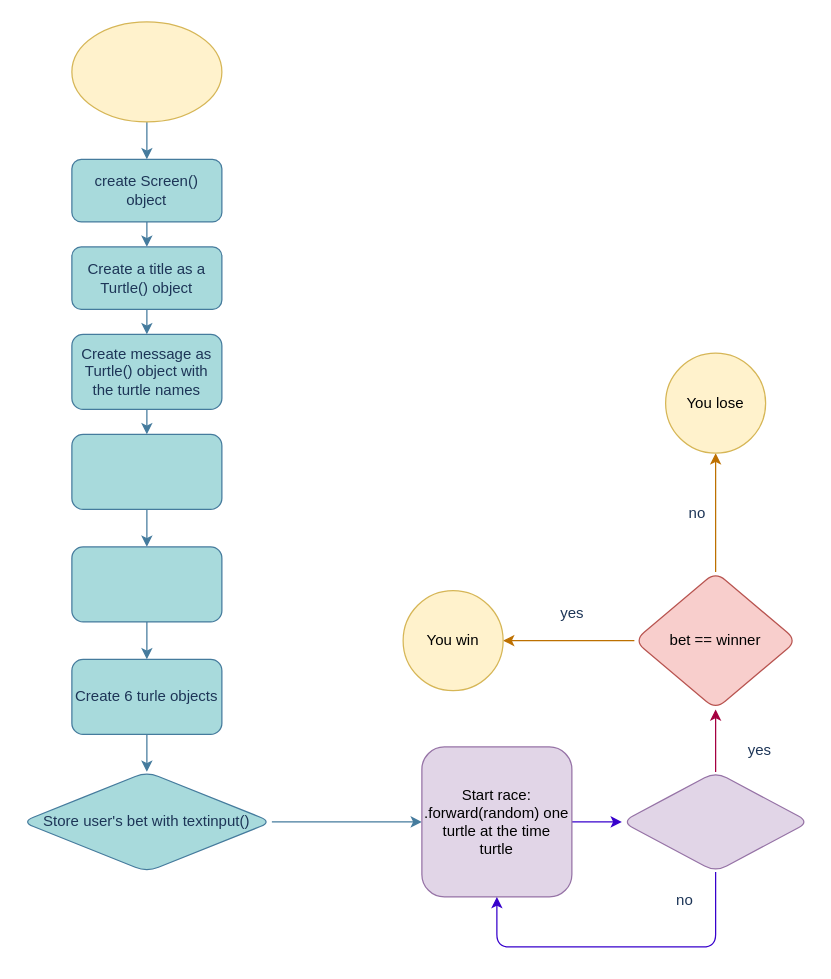
This 831x979 diagram has some shape labels left out. Each missing label, with the centre of its shape:
"Create colours, and positions variables. Create turtles_in_race list" goes at pixel 146 584.
"Draw finish line set f_line_pos" goes at pixel 146 471.
"If turtle reach finish line" goes at pixel 715 821.
"Start" goes at pixel 146 71.
